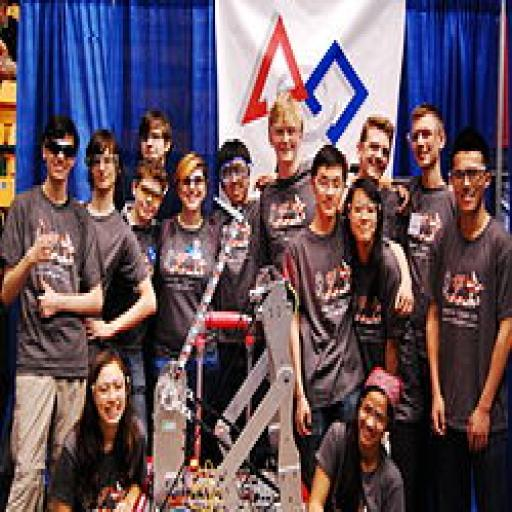robot: (94, 265, 309, 512)
